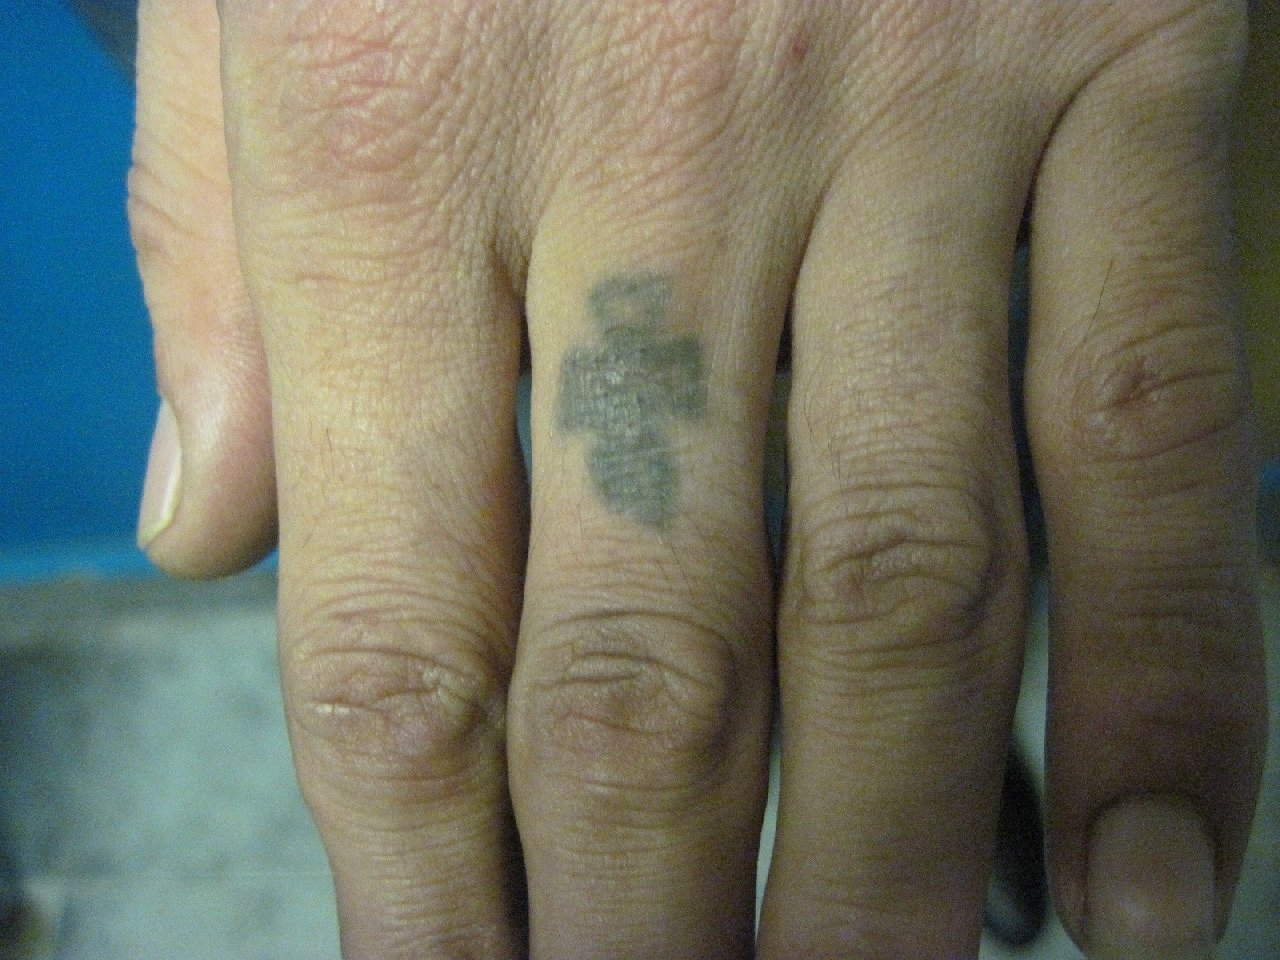tatu9_krest: (549, 257, 724, 552)
